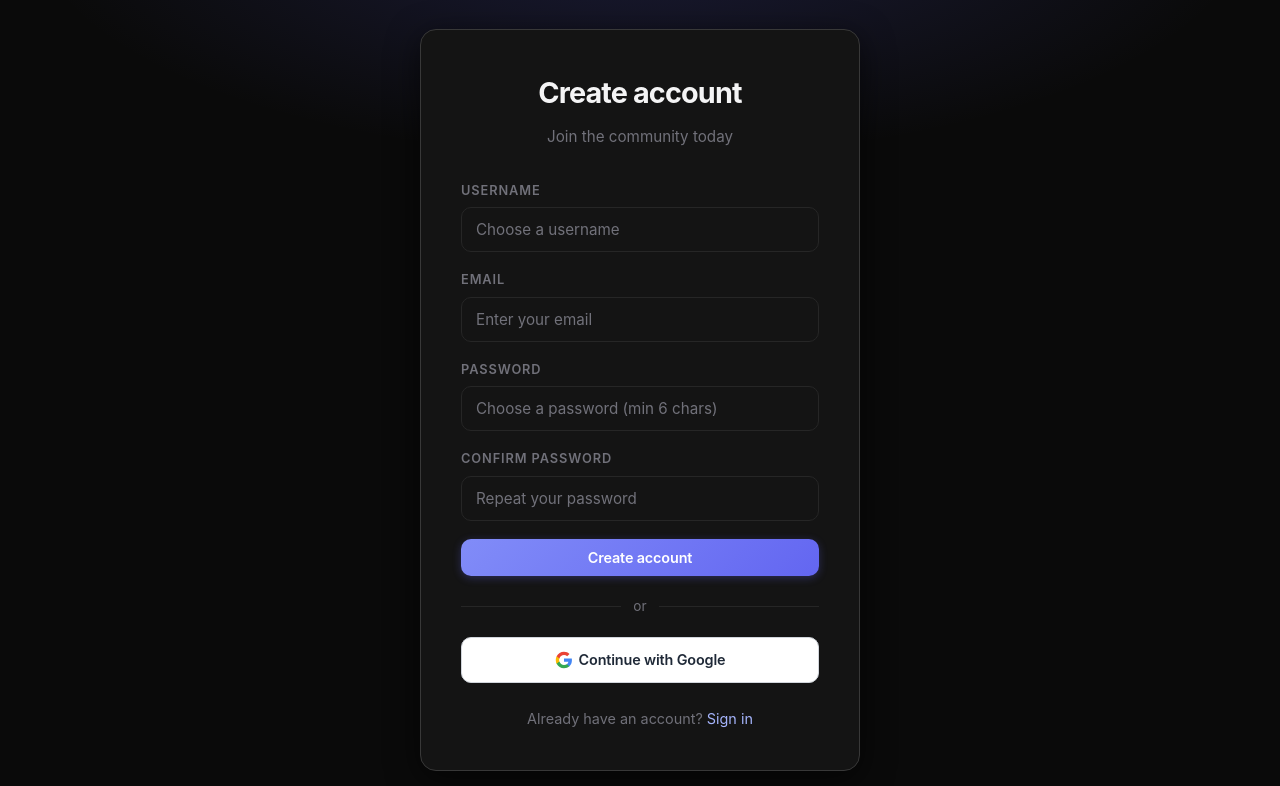
Test: RegisterPage › Client-side validation › shows error when email is invalid
This screenshot has width=1280, height=786.
Type "notanemail" into the field with placeholder "Enter your email" at x=640, y=319, box [461,297,819,342]
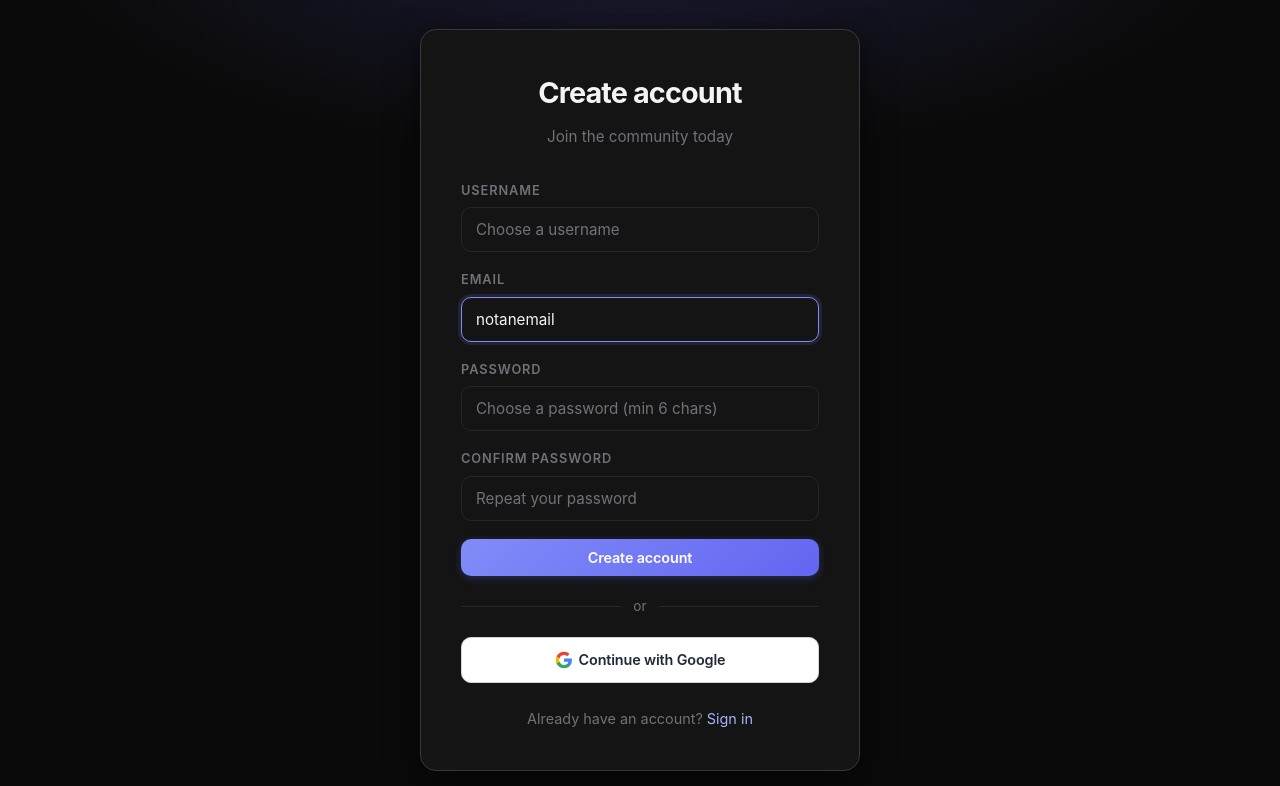
Click the button "Create account" at x=640, y=557, box [461,539,819,576]
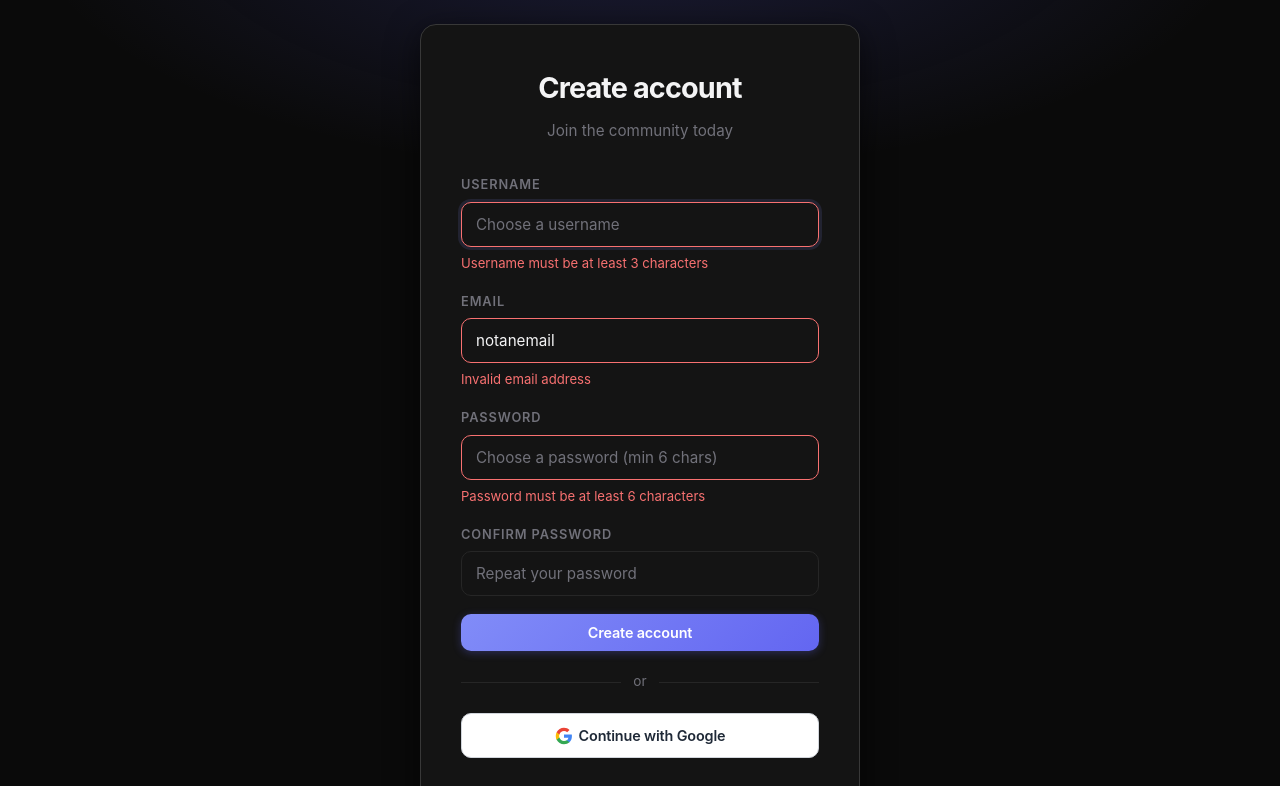
expect the text "Invalid email address" is shown: met, box [461,371,591,387]
